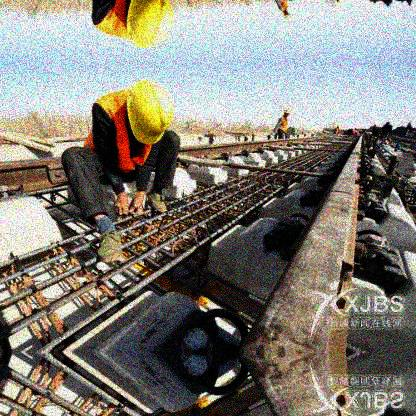helmet: (128, 80, 168, 150)
